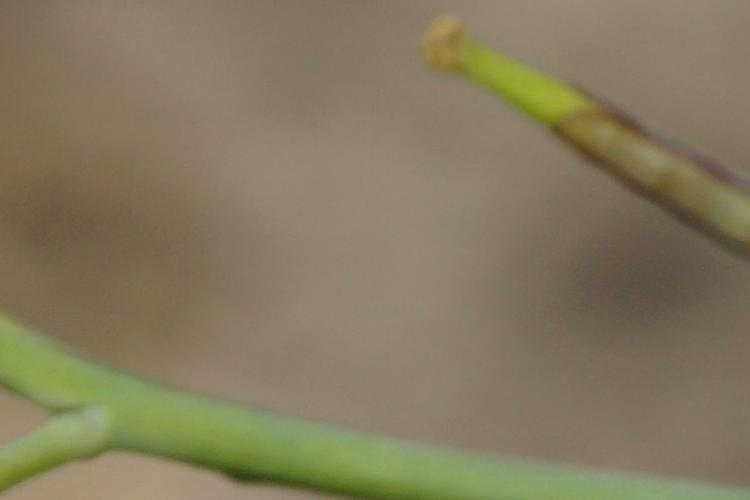pod: (433, 20, 750, 252)
